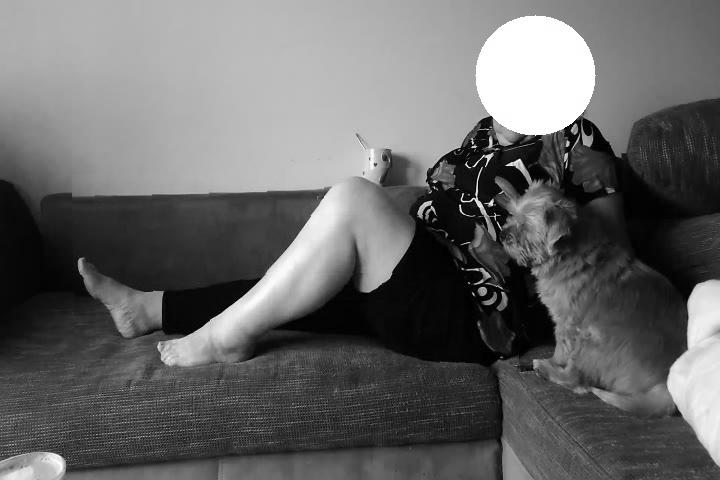lowerbody: (74, 169, 519, 380)
